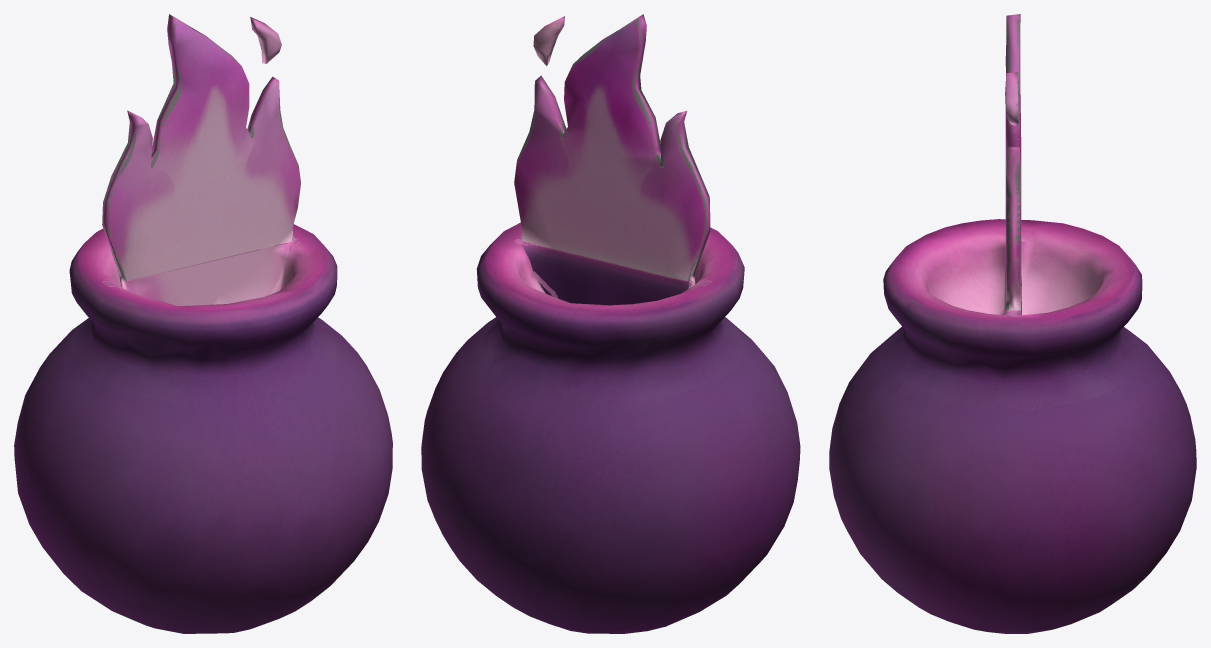
File: FireJar.fbx
3 views of the same model, side by side, from view 1: azimuth 30°, elevation 25°; view 2: azimuth 150°, elevation 25°; view 3: azimuth 270°, elevation 25° (orthographic). The views are drawn at different scales.
Parts seen in each view (by area): view 1: texture_mapping; view 2: texture_mapping; view 3: texture_mapping.
Part boxes in pixels (x1,y1,x2,y2): texture_mapping: (14, 14, 392, 633); texture_mapping: (421, 14, 800, 633); texture_mapping: (829, 14, 1196, 633).
Bounding box in the file's own units: 0.5816 × 0.5826 × 1.
1 material, 1 textured.
